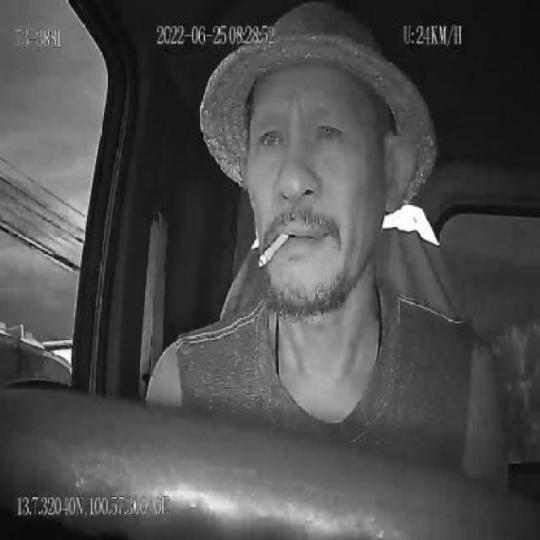smoking: (259, 230, 289, 271)
